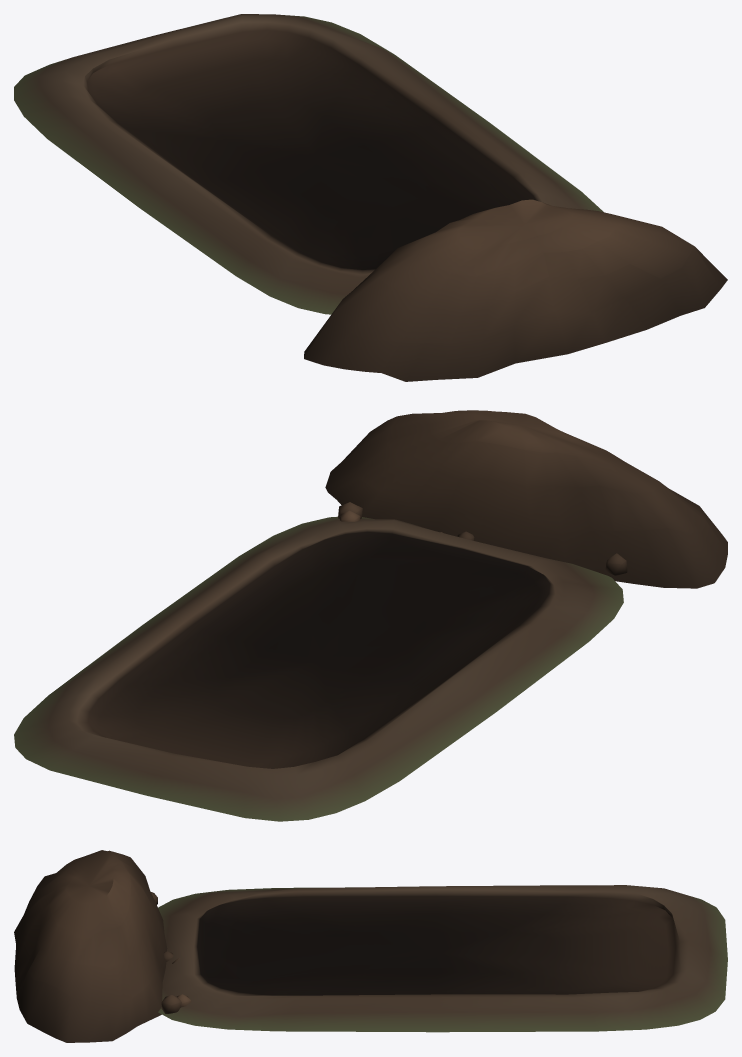
Rendered from ph_prop_grave_pit_foot.glb.
The picture shows the model from 3 angles, top to bottom: view 1: azimuth 30°, elevation 25°; view 2: azimuth 150°, elevation 25°; view 3: azimuth 270°, elevation 25°; orthographic projection. The views are drawn at different scales.
Visible parts, largest first — view 1: ph_prop_grave_pit_foot; view 2: ph_prop_grave_pit_foot; view 3: ph_prop_grave_pit_foot.
Part boxes in pixels (box(x1,y1,x2,y2)): ph_prop_grave_pit_foot: box(14, 14, 727, 381); ph_prop_grave_pit_foot: box(14, 410, 727, 821); ph_prop_grave_pit_foot: box(14, 850, 727, 1042).
Size of the model in its own units: 1.63 by 0.4308 by 2.99.
